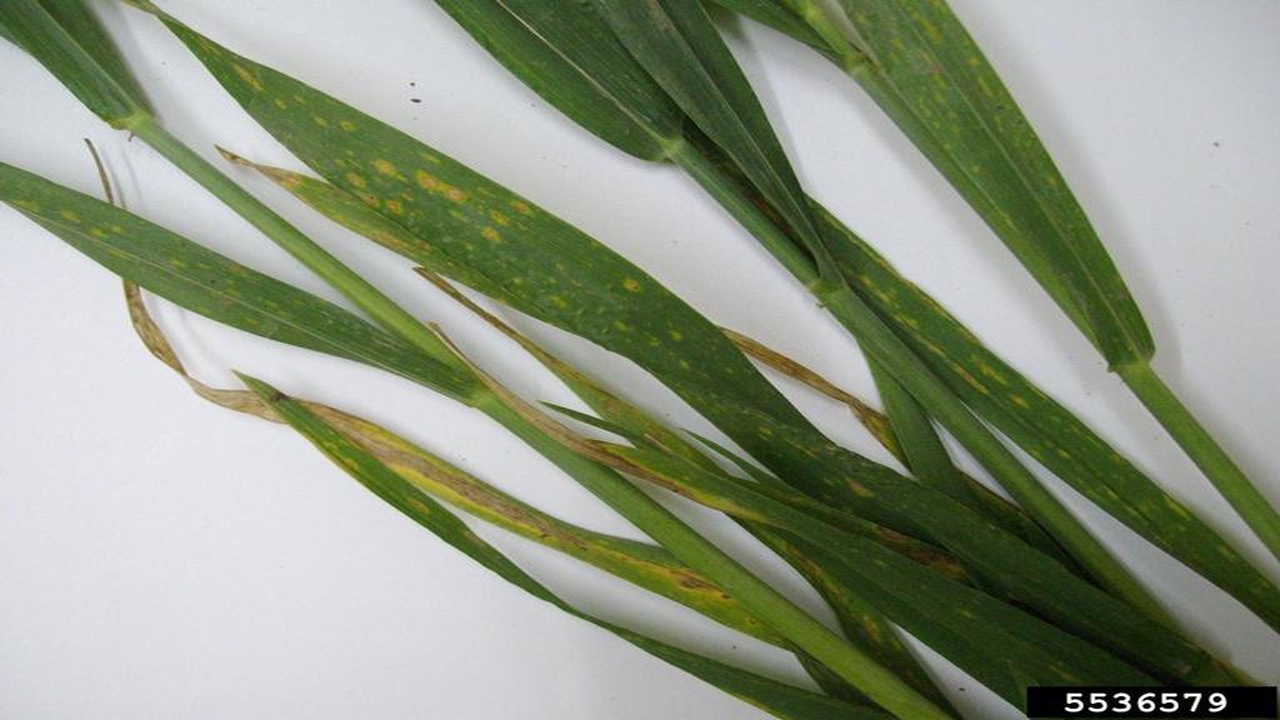tan_spot: (129, 1, 878, 494), (819, 209, 1217, 566), (1, 162, 471, 399), (236, 372, 598, 634)
